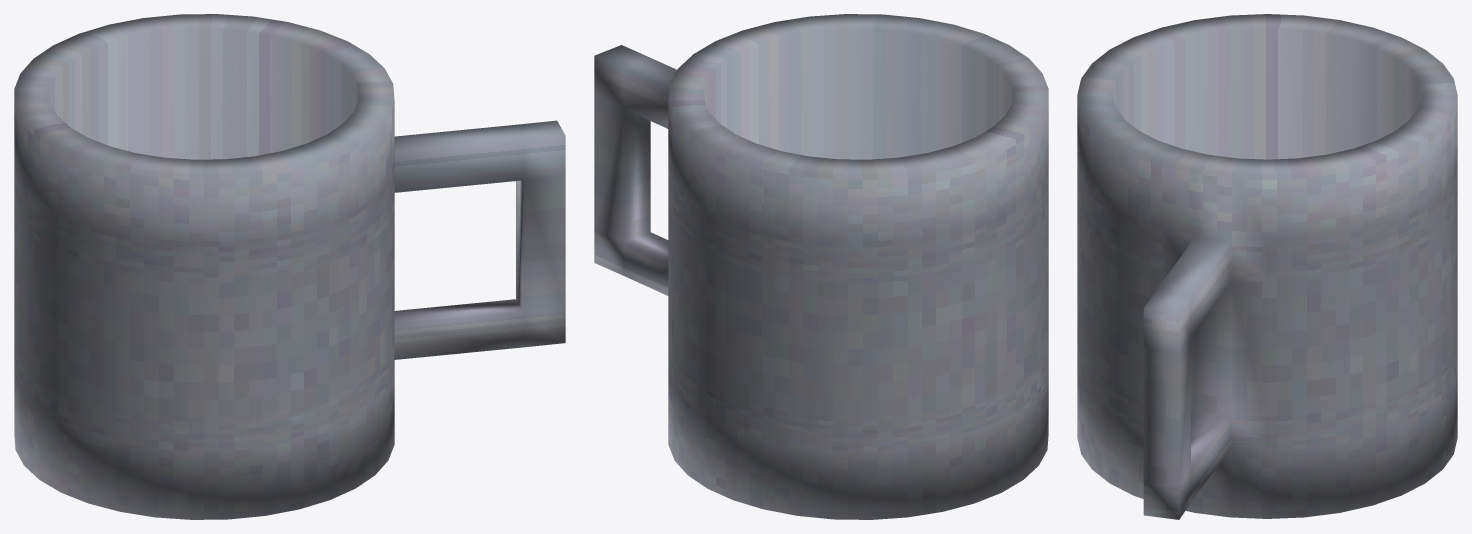
The model's file is cup.gltf.
3 views of the same model, side by side, from view 1: azimuth 30°, elevation 25°; view 2: azimuth 150°, elevation 25°; view 3: azimuth 270°, elevation 25° (orthographic).
Visible parts, largest first — view 1: Cylinder; view 2: Cylinder; view 3: Cylinder.
Part boxes in pixels (x1,y1,x2,y2): Cylinder: [14, 14, 565, 519]; Cylinder: [594, 14, 1048, 519]; Cylinder: [1077, 14, 1457, 519].
Size of the model in its own units: 0.6636 by 0.4625 by 0.4625.
Materials: 1 (1 with a texture image).
